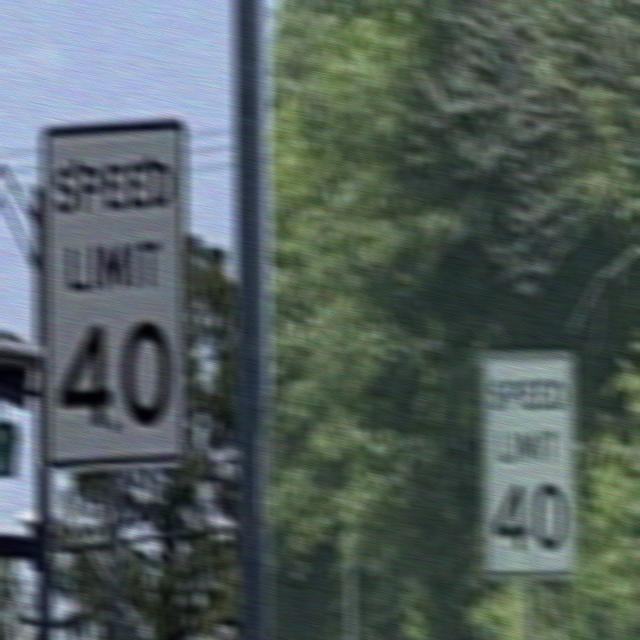speedLimit40: (44, 128, 184, 464), (485, 360, 573, 570)
